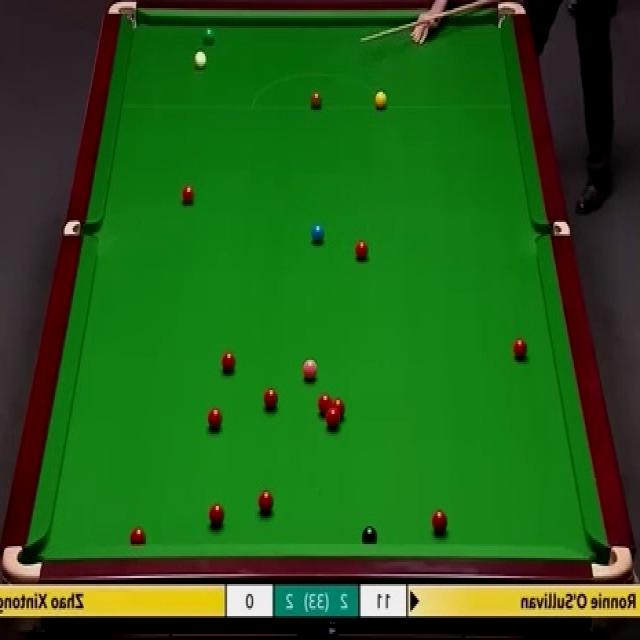black-ball: (360, 523, 378, 545)
blue-ball: (311, 222, 325, 245)
brown-ball: (310, 88, 324, 111)
green-ball: (200, 26, 215, 44)
pink-ball: (302, 354, 317, 382)
red-ball: (220, 349, 237, 378), (512, 336, 529, 363), (209, 503, 226, 529), (258, 489, 274, 515), (208, 405, 223, 430), (180, 181, 195, 206), (264, 387, 279, 412), (432, 508, 446, 534), (354, 239, 369, 262), (318, 394, 332, 418), (130, 526, 146, 546), (326, 410, 339, 430), (332, 398, 345, 418)
white-ball: (192, 49, 208, 71)
yellow-ball: (375, 89, 388, 109)
